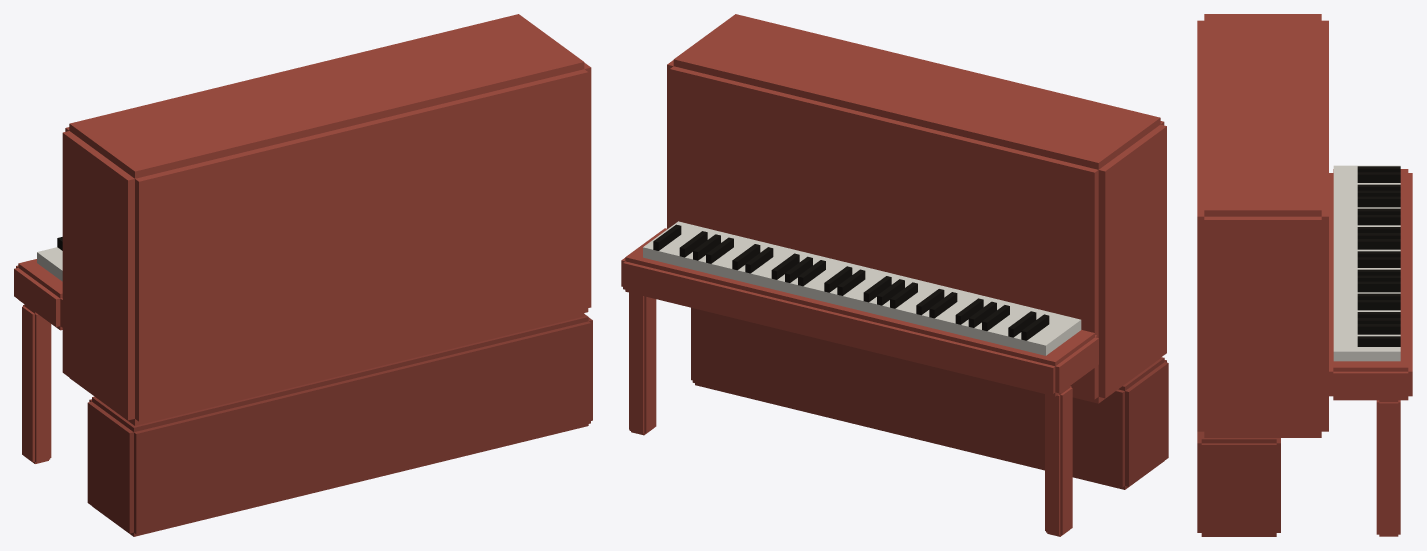
The model's file is rich_mahogany_piano_v0.glb.
The picture shows the model from 3 angles, left to right: view 1: azimuth 30°, elevation 25°; view 2: azimuth 150°, elevation 25°; view 3: azimuth 270°, elevation 25°; orthographic projection. The views are drawn at different scales.
Parts seen in each view (by area): view 1: rich_mahogany_piano_v0; view 2: rich_mahogany_piano_v0; view 3: rich_mahogany_piano_v0.
Boxes of the visible parts, x1,y1,x2,y2 form: rich_mahogany_piano_v0: (14, 14, 592, 536); rich_mahogany_piano_v0: (621, 14, 1168, 536); rich_mahogany_piano_v0: (1197, 14, 1412, 536).
Bounding box in the file's own units: 2 × 1.5 × 0.9.
